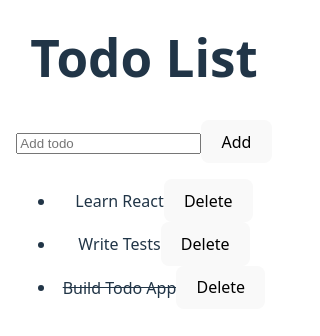
Test: TodoList Component › adds a new todo
In the field with placeholder "Add todo": [109, 143] box [16,133,201,154], type "New Todo"
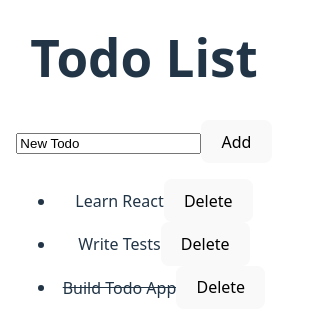
Click the button "Add": [237, 142] box [201,120,272,163]
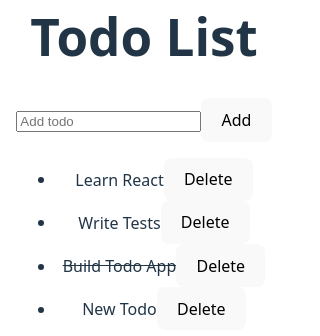
expect the text "New Todo" is shown: met, box [82,298,157,320]
